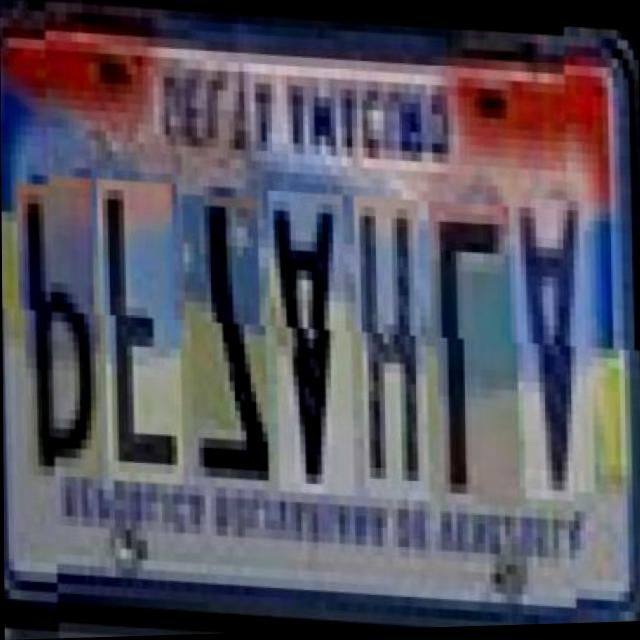7: (189, 190, 269, 489)
a: (274, 184, 355, 493), (520, 188, 596, 495)
f: (103, 174, 183, 483)
h: (359, 189, 430, 496)
l: (434, 192, 520, 501)
p: (23, 171, 103, 479)
